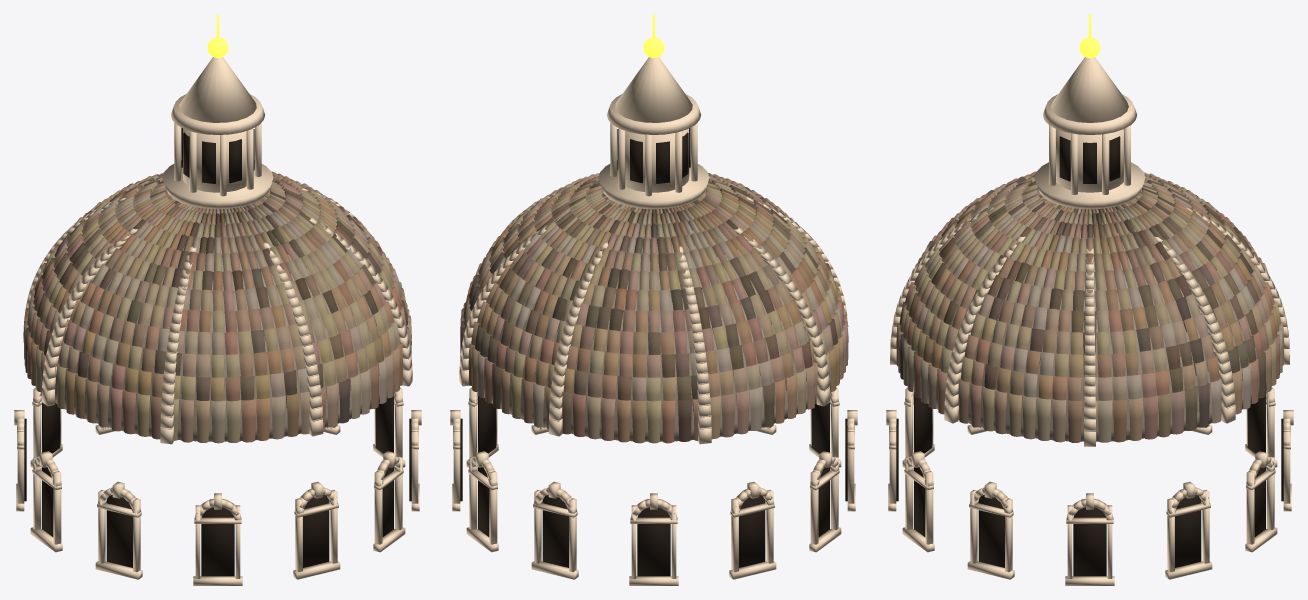
Rendered from dome_w3.glb.
3 views of the same model, side by side, from view 1: azimuth 30°, elevation 25°; view 2: azimuth 150°, elevation 25°; view 3: azimuth 270°, elevation 25° (orthographic).
Visible parts, largest first — view 1: DomeCanary; view 2: DomeCanary; view 3: DomeCanary.
Boxes of the visible parts, x1=… form: DomeCanary: x1=14, y1=14, x2=421, y2=585; DomeCanary: x1=450, y1=14, x2=857, y2=585; DomeCanary: x1=886, y1=14, x2=1293, y2=585.
Bounding box in the file's own units: 17.24 × 22.7 × 17.24.
4 materials, 1 textured.
